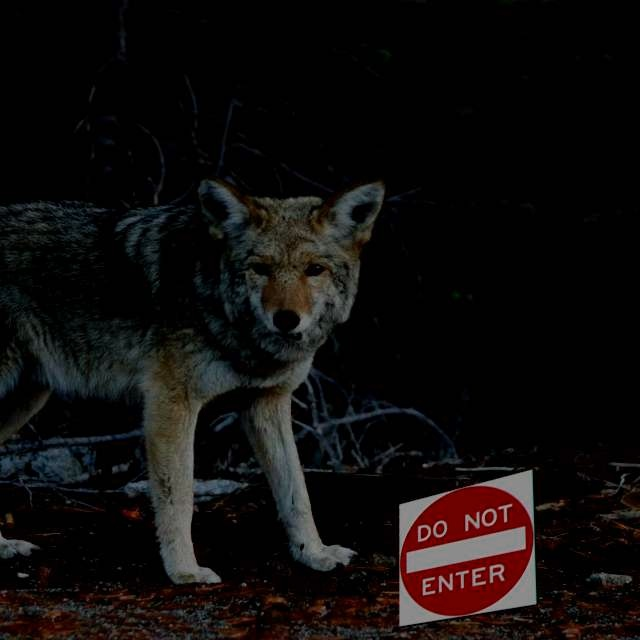DO_NOT_ENTER: (398, 468, 538, 628)
